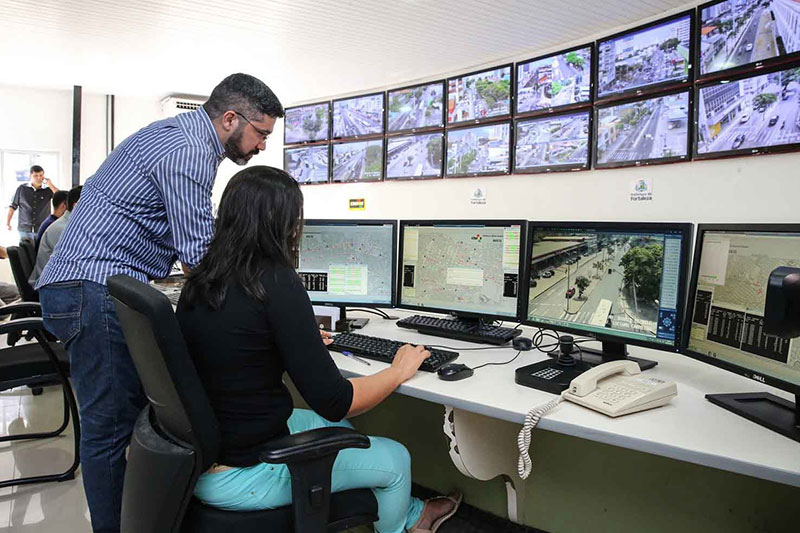Humano: (168, 165, 419, 524), (81, 69, 298, 169), (36, 187, 68, 262), (11, 163, 45, 233)
